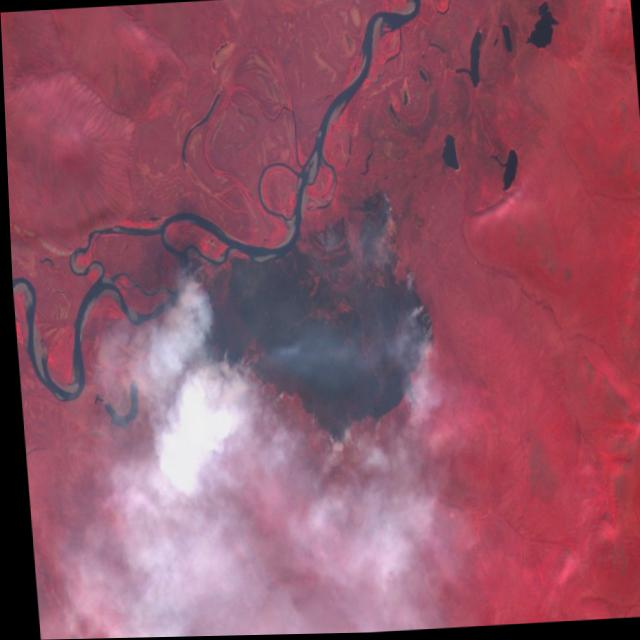fire: (164, 177, 446, 466)
